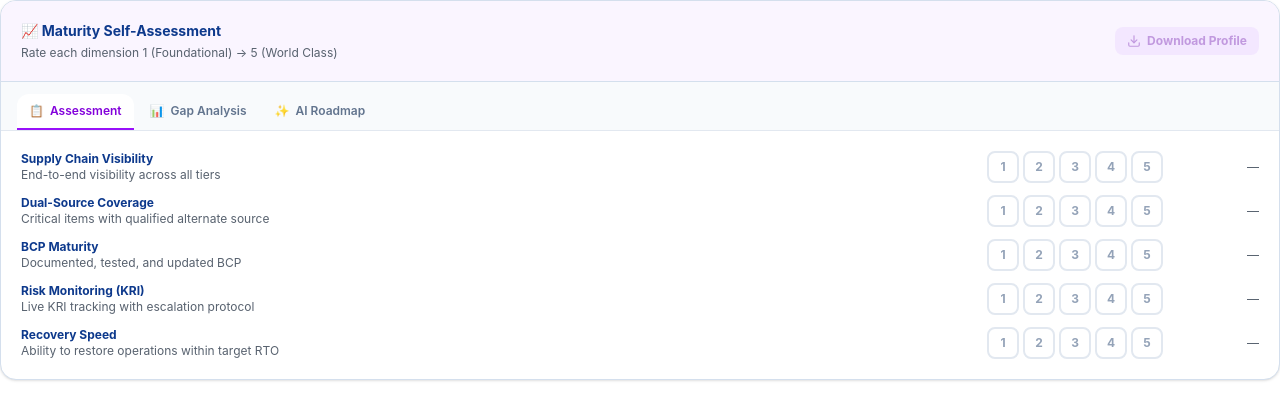
MaturityTools — ARIA tab↔panel linkage › switching to Gap Analysis tab renders correct tabpanel linkage
The width and height of the screenshot is (1280, 398).
Click the tab "📊 Gap Analysis" at (198, 112), box [138,94,259,130]
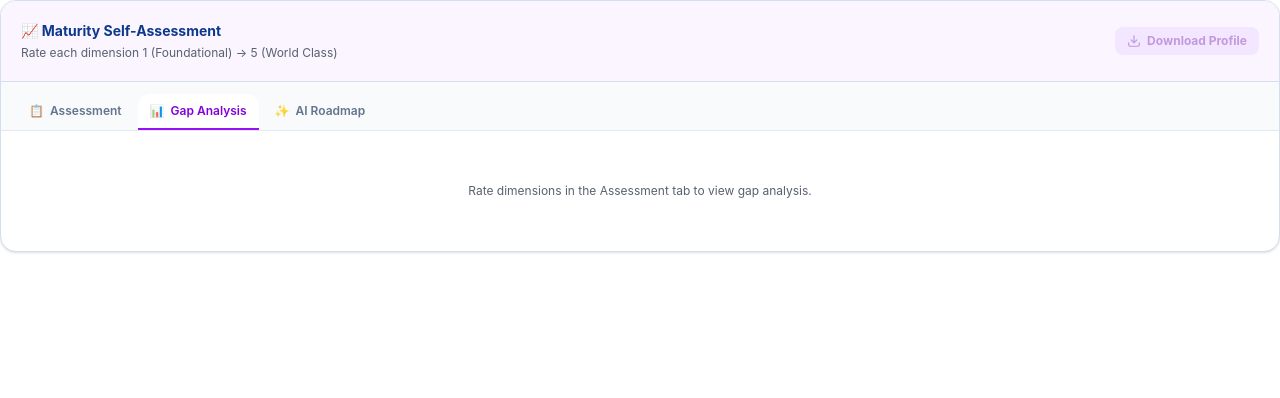
Expected: the panel is shown, [468,183,812,198]
